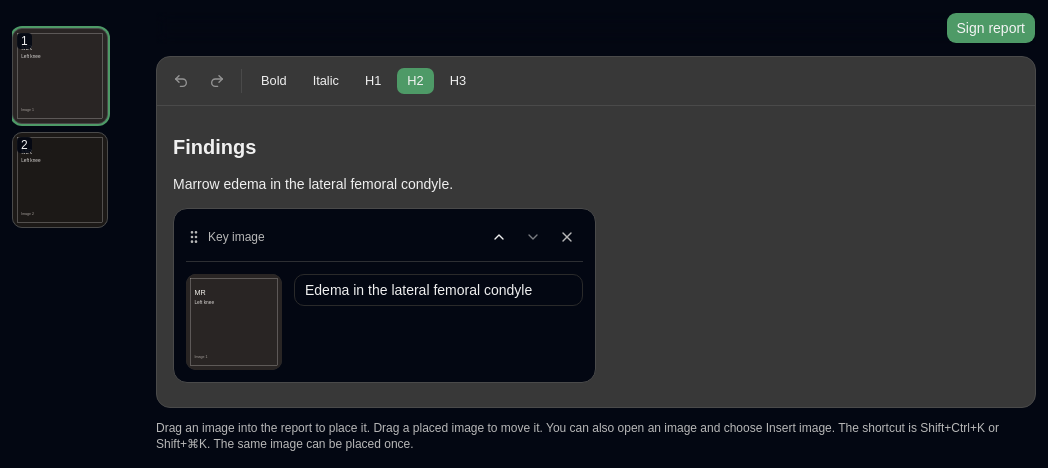
Test: keeps Saved on screen and shows Saving... while a change is stored
This screenshot has width=1048, height=468.
Expected: the text "Saved" is not shown
Step 1. Type " slow" into the field named "Caption" → (438, 290), box [294,274,583,306]
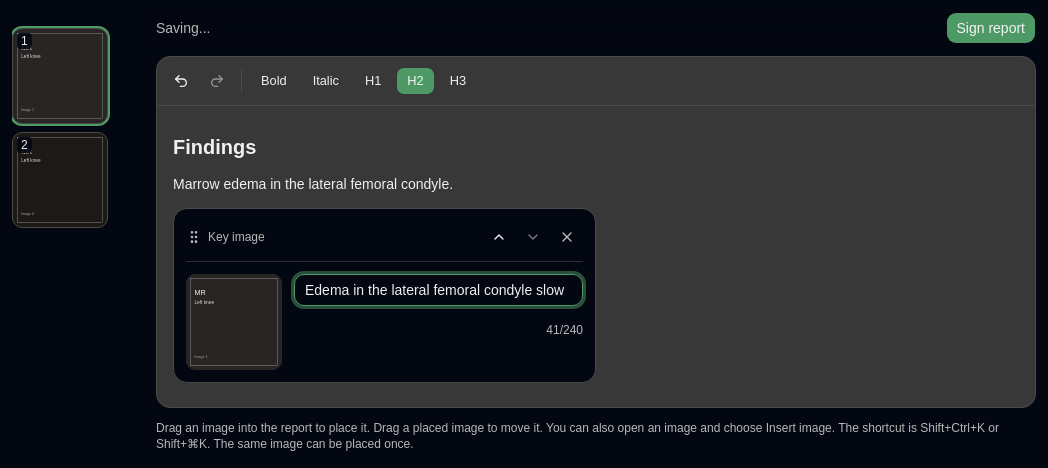
Expected: the text "Saving..." is shown, [156,18,210,38]
Step 2. Leave the field named "Caption", box [294,274,583,306]
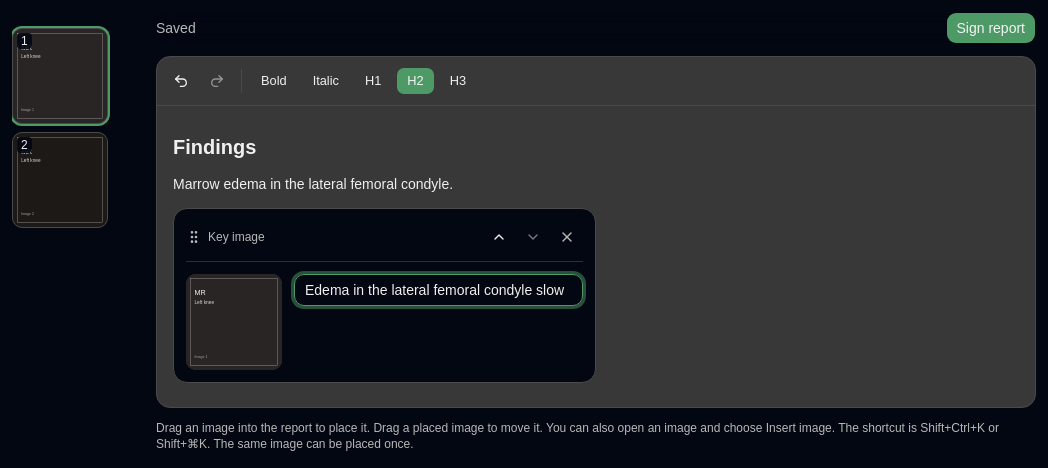
Expected: the text "Saved" is shown, [156,18,196,38]
Expected: the text "Saving..." is gone
